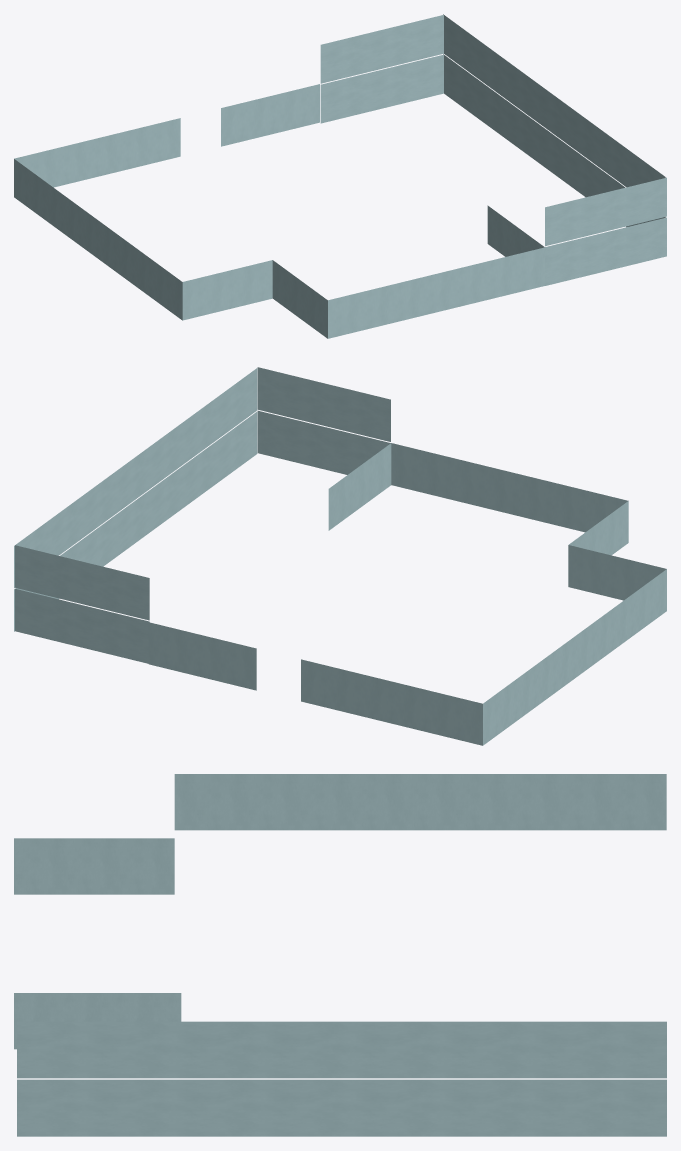
Rendered from resto_ni_teo_21.obj.
3 views of the same model, one above another, from view 1: azimuth 30°, elevation 25°; view 2: azimuth 150°, elevation 25°; view 3: azimuth 270°, elevation 25° (orthographic). The views are drawn at different scales.
Size of the model in its own units: 18.72 by 3.28 by 16.89.
